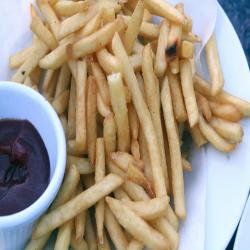fries: (35, 4, 213, 250)
ketchup: (2, 93, 54, 242)
